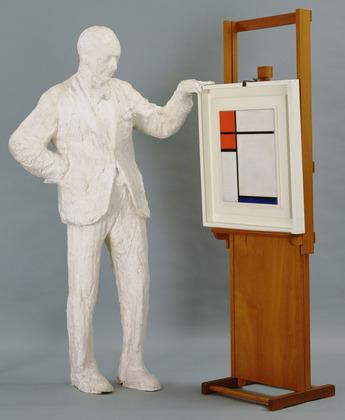person: (8, 23, 216, 401)
